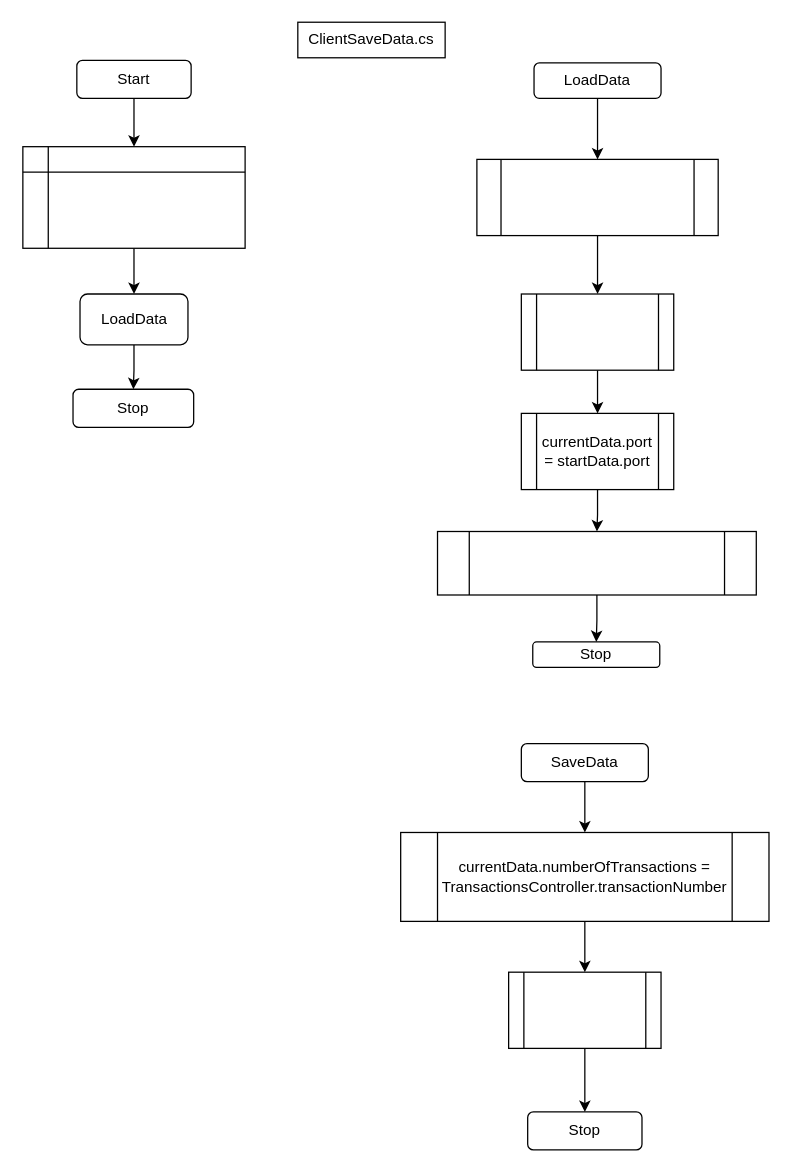
Image size: 791x1172. Some labels were removed from this diagram. Here are the shapes that lost their labels. From the top down, the box of each, then its label:
(22, 145, 245, 248): String saveLocation ClientData currentData
(476, 158, 718, 236): startData = ReadDataFromJsonFile
(520, 293, 674, 370): currentData.host = startData.host
(436, 530, 756, 595): currentData.numberOfTransactions = startData.numberOfTransactions
(507, 971, 661, 1048): Write currentData to Json file
